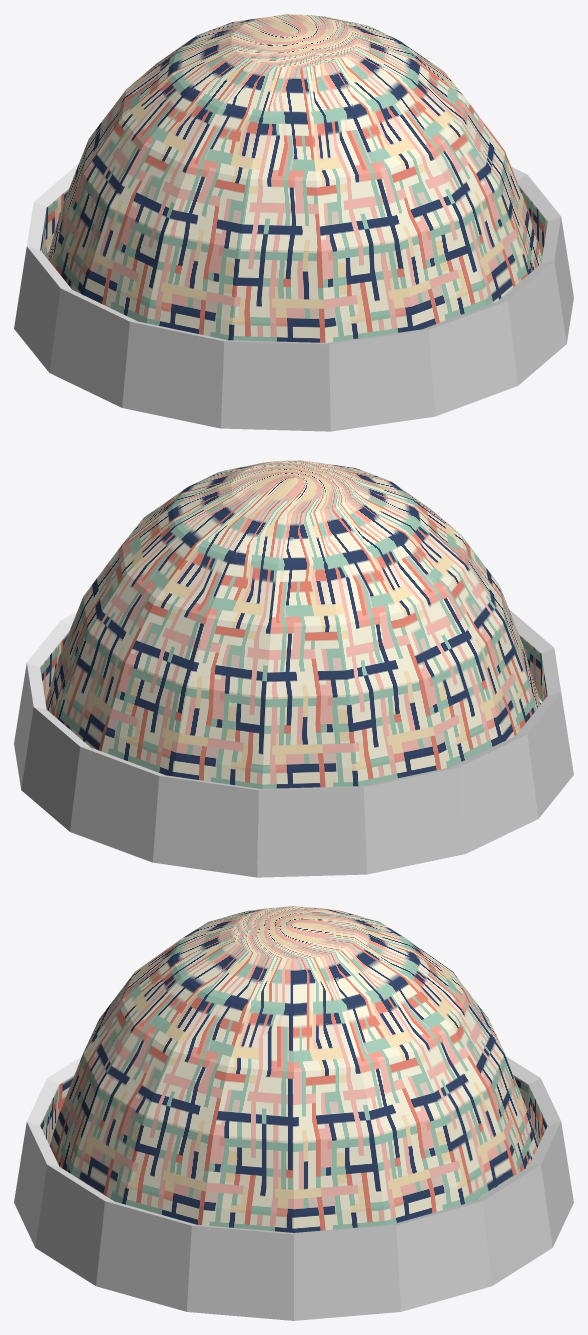
File: hat3.fbx
The picture shows the model from 3 angles, top to bottom: view 1: azimuth 30°, elevation 25°; view 2: azimuth 150°, elevation 25°; view 3: azimuth 270°, elevation 25°; orthographic projection.
Parts seen in each view (by area): view 1: hat3; view 2: hat3; view 3: hat3.
Boxes of the visible parts, bbox=[...] form: hat3: bbox=[14, 14, 573, 431]; hat3: bbox=[14, 460, 573, 877]; hat3: bbox=[14, 906, 573, 1320].
Bounding box in the file's own units: 0.2301 × 0.1264 × 0.2301.
